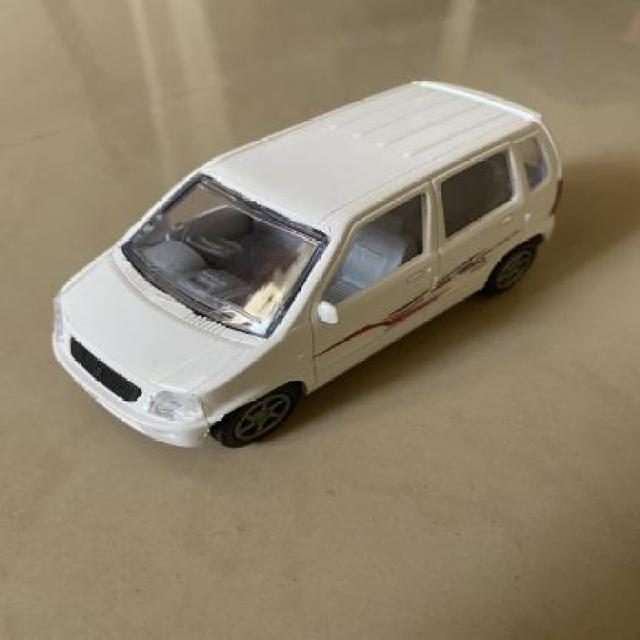vehicle: (16, 53, 585, 466)
